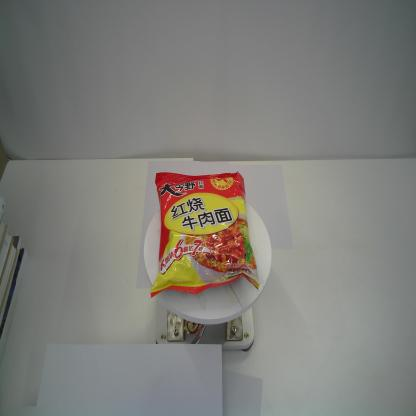Instant Noodles: (149, 169, 261, 300)
